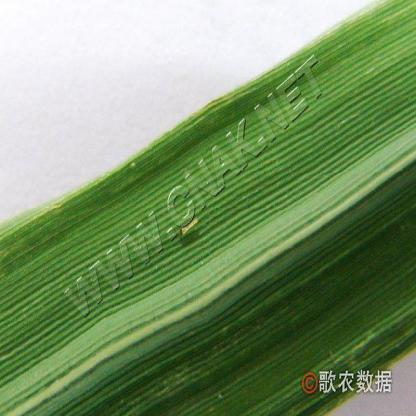leaf-folder: (181, 212, 203, 239)
